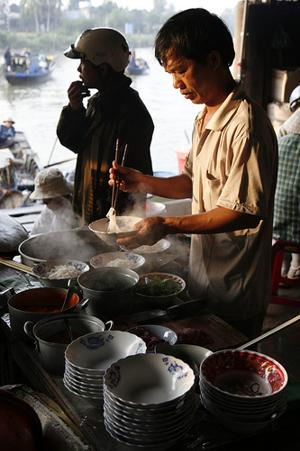person: (108, 8, 281, 341)
